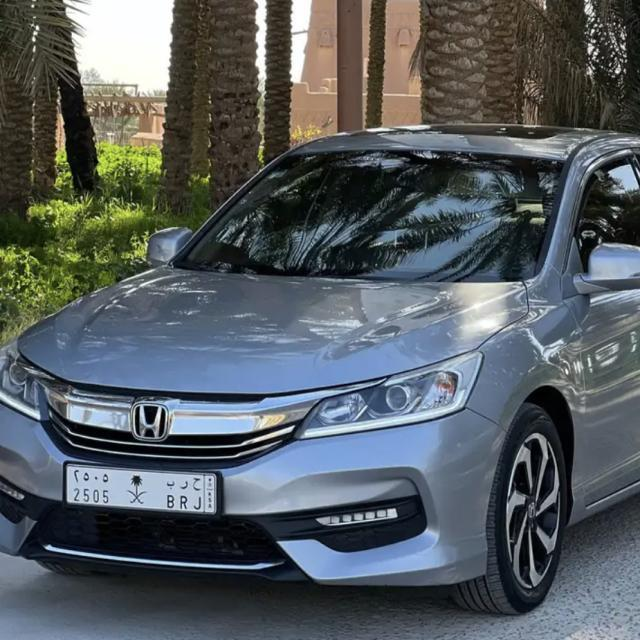license_plate: (63, 458, 222, 520)
